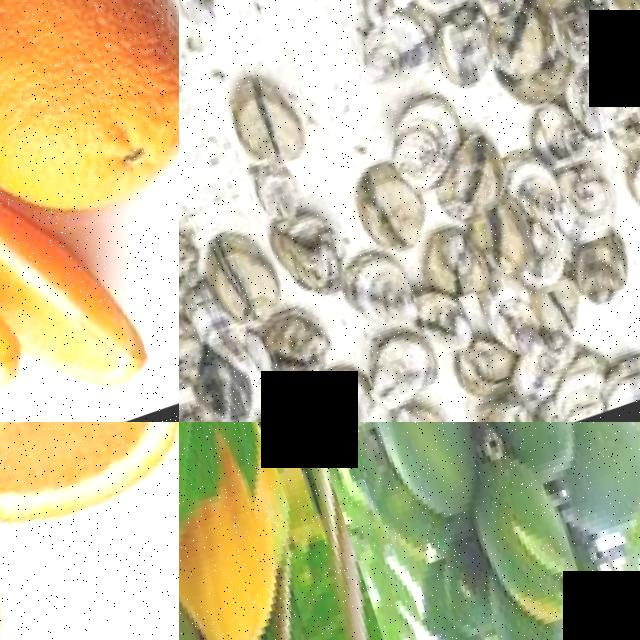orange: (0, 0, 179, 230), (0, 199, 169, 416), (0, 422, 179, 560)
oysters: (197, 215, 296, 337), (215, 62, 318, 177), (377, 86, 478, 198), (424, 129, 530, 233), (341, 152, 437, 266), (343, 1, 450, 100), (356, 321, 452, 418), (334, 247, 426, 346), (542, 154, 633, 252), (557, 32, 640, 138), (422, 3, 506, 99), (299, 361, 395, 422), (244, 392, 344, 422), (614, 128, 640, 234), (179, 0, 245, 37)
pawpaw: (462, 458, 593, 638), (179, 480, 306, 640), (351, 422, 498, 523), (554, 422, 640, 537), (470, 422, 593, 490)
